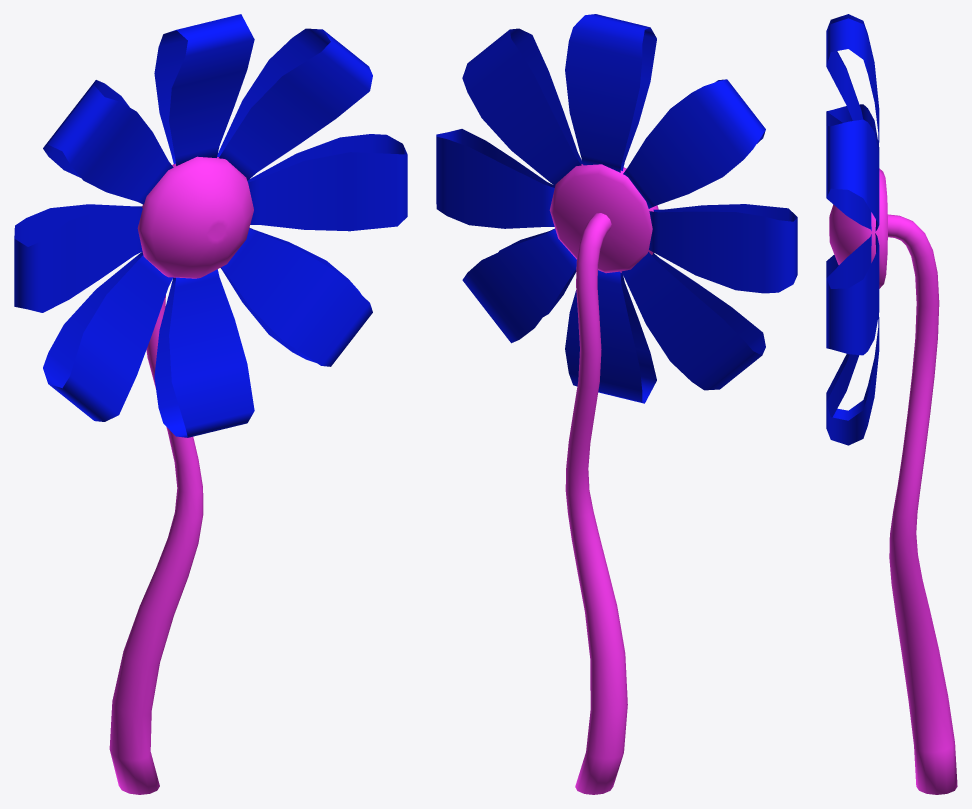
The model's file is flower (1).fbx.
The picture shows the model from 3 angles, left to right: view 1: azimuth 30°, elevation 25°; view 2: azimuth 150°, elevation 25°; view 3: azimuth 270°, elevation 25°; orthographic projection. The views are drawn at different scales.
Visible parts, largest first — view 1: Line001, Petales_003, Petales_005, Petales_002, Petales_006, Petales_004, Plane154, Petales_007, Petales_008; view 2: Line001, Petales_007, Plane154, Petales_006, Petales_008, Petales_002, Petales_003, Petales_004, Petales_005; view 3: Line001, Petales_003, Petales_002, Plane154, Petales_004, Petales_005, Petales_007, Petales_008.
Part boxes in pixels (box(x1,y1,x2,y2)): Line001: box(109, 156, 253, 794); Petales_003: box(247, 134, 407, 231); Petales_005: box(154, 269, 254, 437); Petales_002: box(217, 28, 372, 180); Petales_006: box(43, 251, 173, 421); Petales_004: box(220, 227, 372, 366); Plane154: box(154, 14, 254, 165); Petales_007: box(14, 204, 142, 312); Petales_008: box(43, 80, 173, 204); Line001: box(549, 164, 658, 794); Petales_007: box(649, 204, 797, 293); Plane154: box(565, 14, 656, 172); Petales_006: box(621, 252, 765, 390); Petales_008: box(623, 79, 765, 208); Petales_002: box(462, 28, 582, 185); Petales_003: box(436, 129, 554, 228); Petales_004: box(462, 228, 576, 343); Petales_005: box(565, 270, 656, 403); Line001: box(829, 168, 957, 794); Petales_003: box(826, 233, 879, 355); Petales_002: box(826, 119, 879, 231); Plane154: box(826, 18, 879, 151); Petales_004: box(826, 316, 879, 445); Petales_005: box(826, 315, 879, 420); Petales_007: box(826, 104, 879, 154); Petales_008: box(826, 14, 879, 119).
Size of the model in its own units: 13.87 by 27.02 by 4.2.
